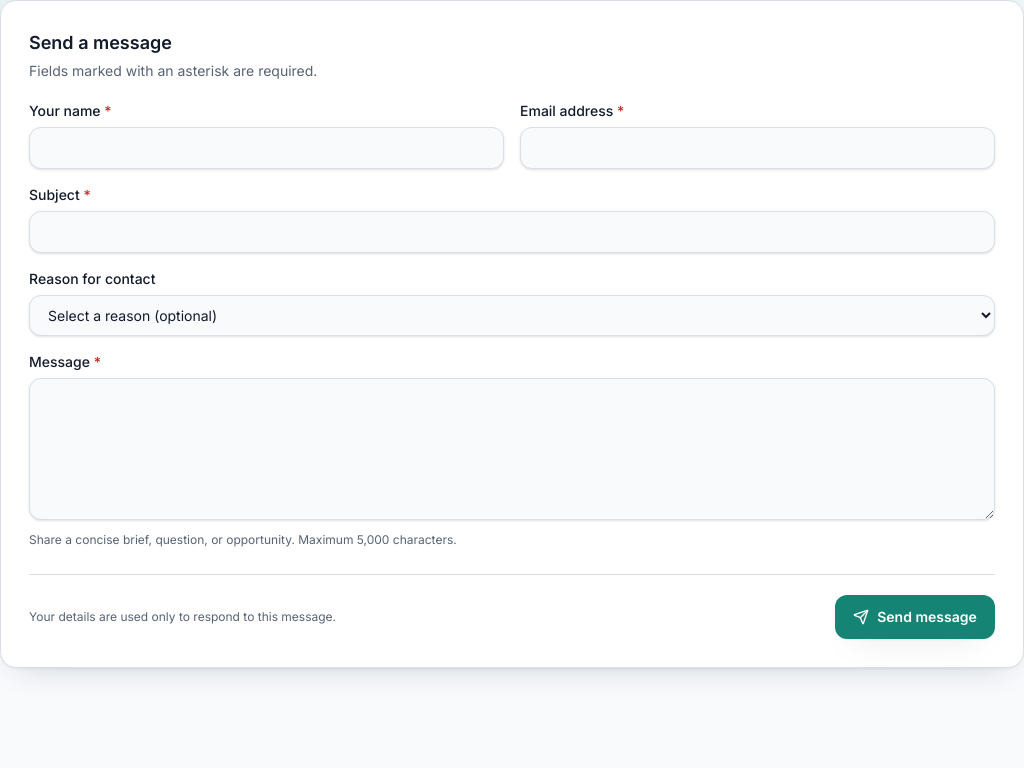
Test: ContactForm › shows client-side validation errors for an empty submission
The width and height of the screenshot is (1024, 768).
Click the button "Send message" at (915, 617), box [835,595,995,639]
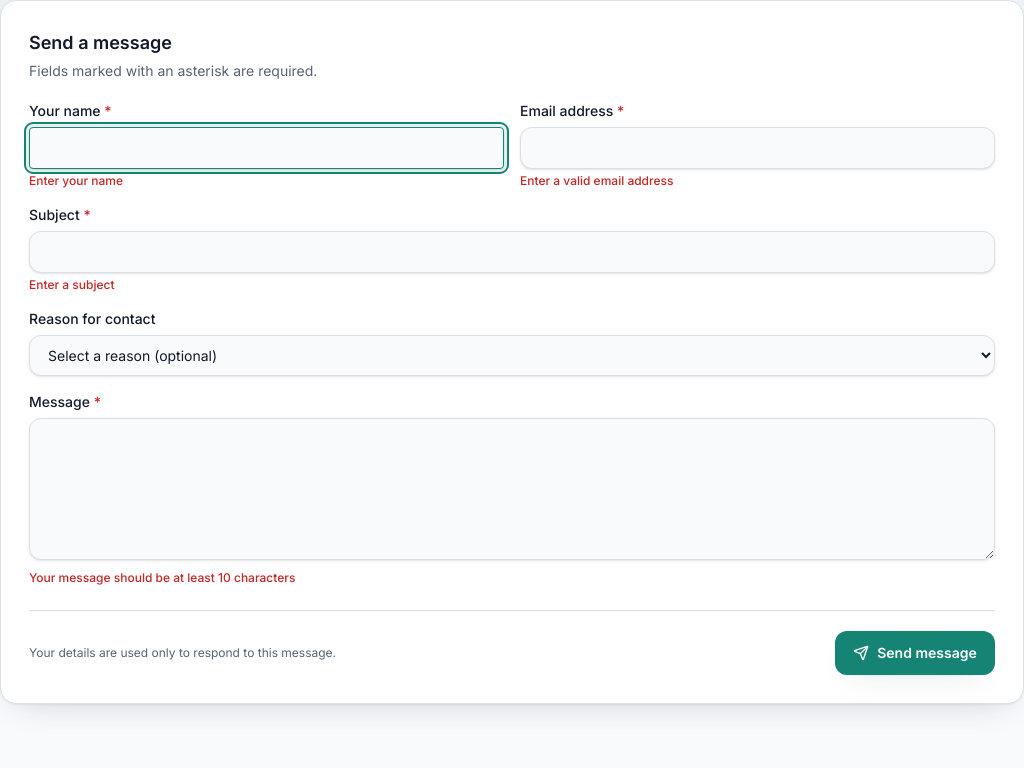
expect the text "Enter your name" is shown: met, box [29,173,123,188]
expect the text "Enter a valid email address" is shown: met, box [520,173,673,188]
expect the text "Enter a subject" is shown: met, box [29,277,114,292]
